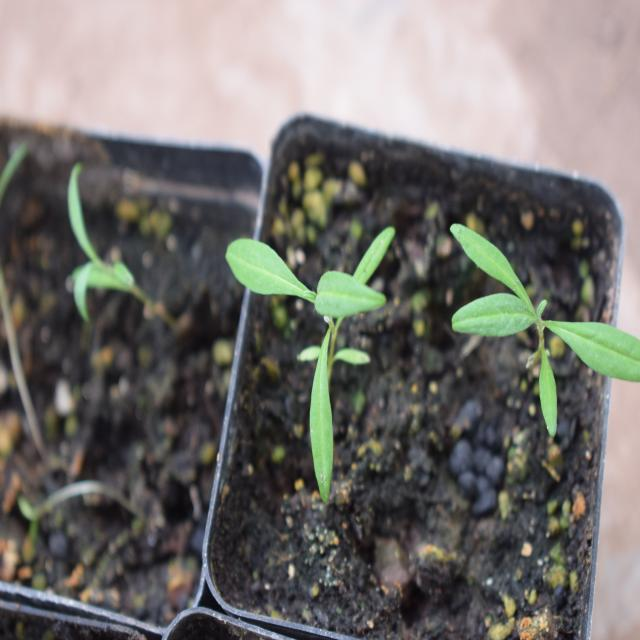white_smart_weed: (213, 198, 430, 492), (425, 241, 622, 442)
